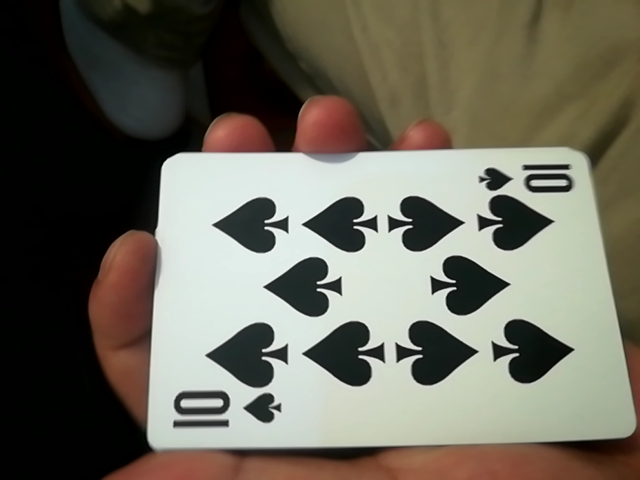ht 10: (133, 143, 614, 460)
